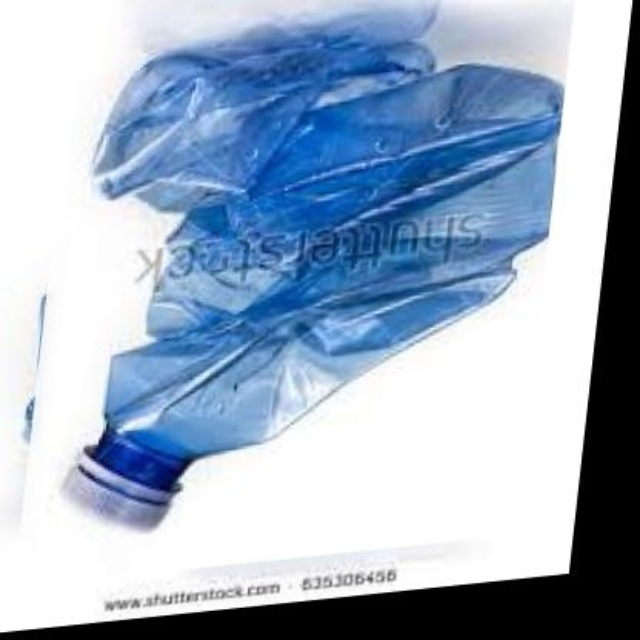trash: (78, 2, 562, 503)
